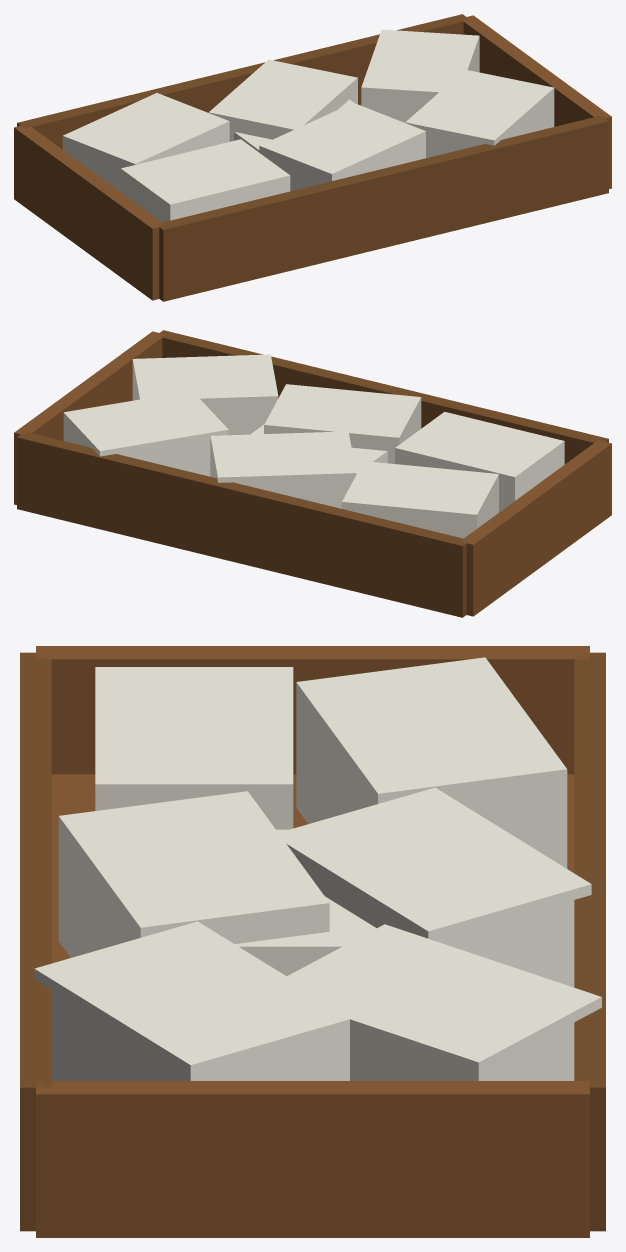
Rendered from Proc_Tofu.fbx.
3 views of the same model, one above another, from view 1: azimuth 30°, elevation 25°; view 2: azimuth 150°, elevation 25°; view 3: azimuth 270°, elevation 25° (orthographic). The views are drawn at different scales.
Visible parts, largest first — view 1: Proc_Tofu__Stack, Proc_Tofu; view 2: Proc_Tofu__Stack, Proc_Tofu; view 3: Proc_Tofu__Stack, Proc_Tofu.
Part boxes in pixels (x1,y1,x2,y2): Proc_Tofu__Stack: (14,14,611,301); Proc_Tofu: (234,99,354,152); Proc_Tofu__Stack: (14,330,611,617); Proc_Tofu: (250,424,387,474); Proc_Tofu__Stack: (20,646,605,1237); Proc_Tofu: (235,829,376,976).
Bounding box in the file's own units: 0.268 × 0.043 × 0.148.
